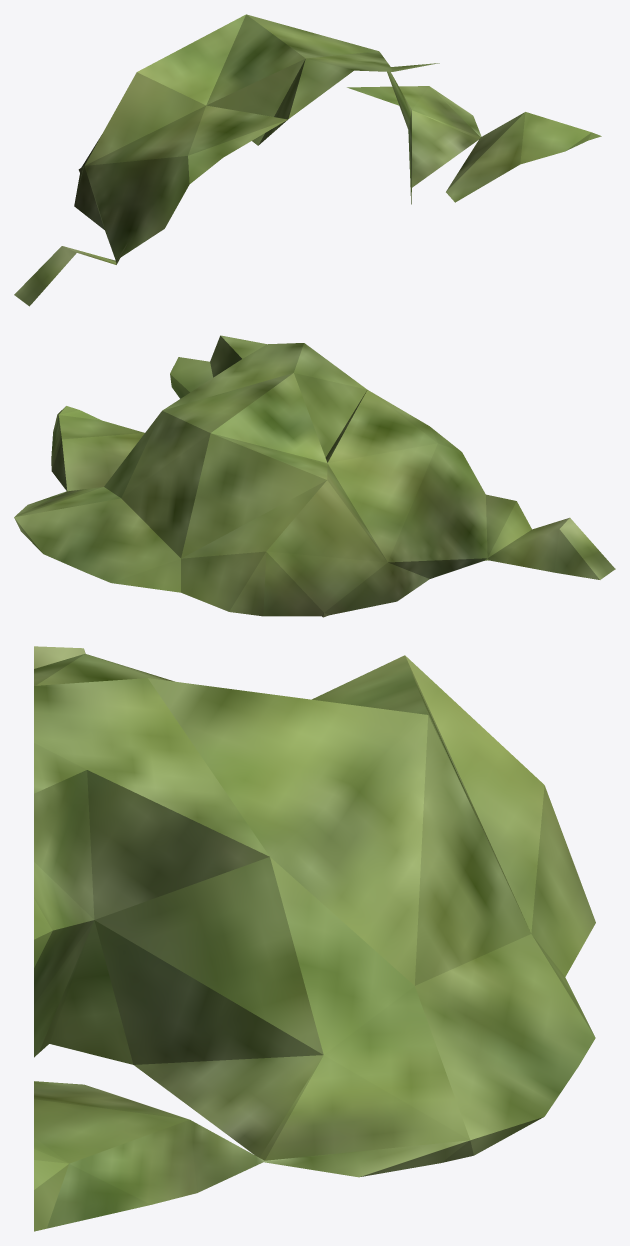
3 renders of one model, top to bottom at view 1: azimuth 30°, elevation 25°; view 2: azimuth 150°, elevation 25°; view 3: azimuth 270°, elevation 25°, orthographic. The views are drawn at different scales.
Bounding box in the file's own units: 6.51 × 1.66 × 2.82.
1 material, 1 textured.
